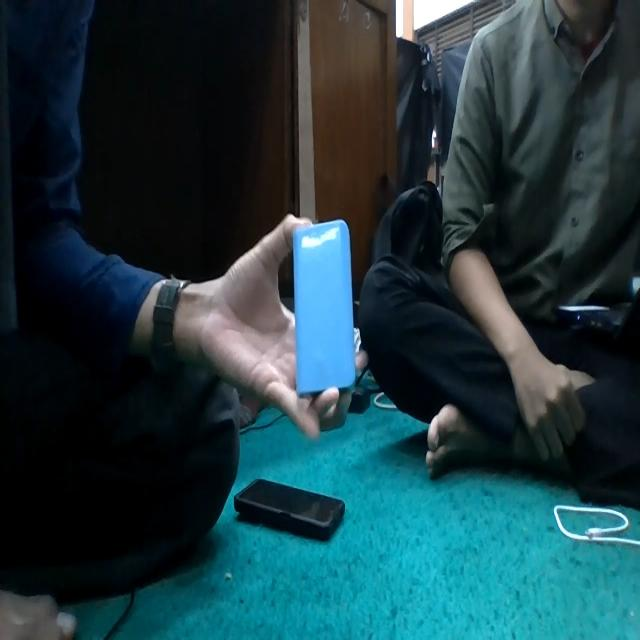Powerbank: (293, 220, 356, 395)
